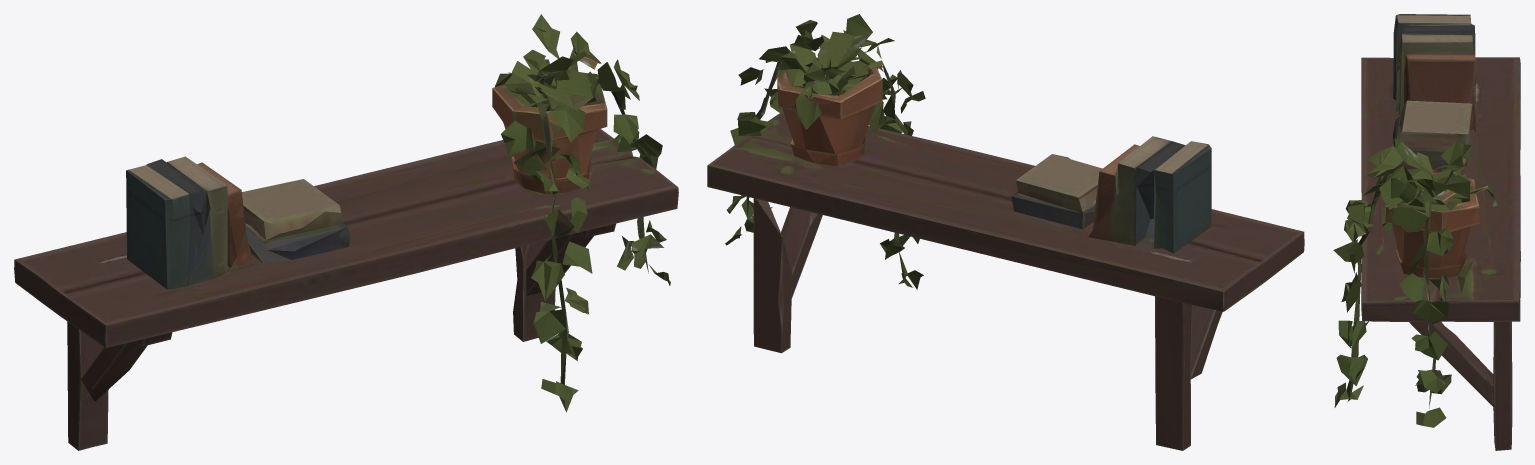
The model's file is shelf.glb.
3 renders of one model, left to right at view 1: azimuth 30°, elevation 25°; view 2: azimuth 150°, elevation 25°; view 3: azimuth 270°, elevation 25°, orthographic. The views are drawn at different scales.
Size of the model in its own units: 1.9 by 1.02 by 0.587.
1 material, 1 textured.
